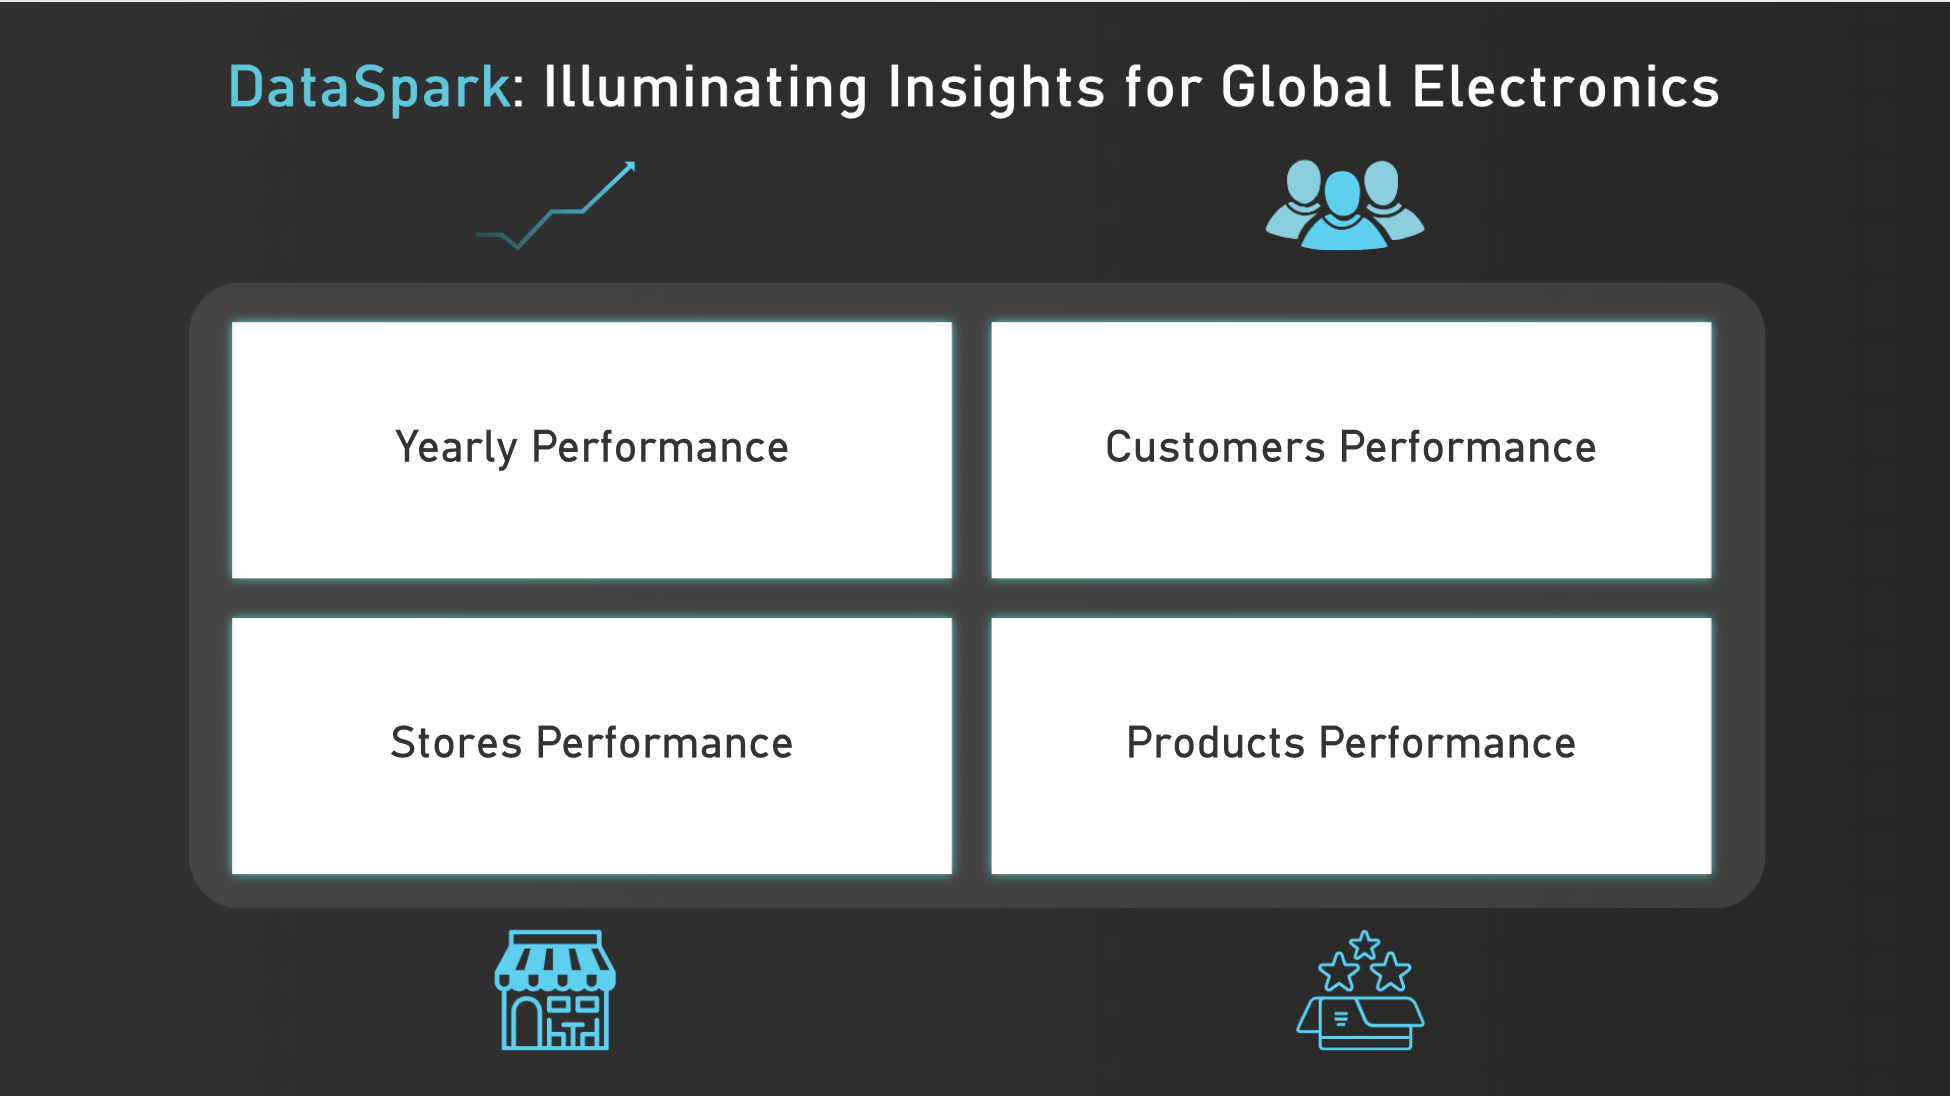

This screenshot's page, from the dashboard's own definition file:
{"tool":"powerbi","page":{"name":"DataSpark: Illuminating Insights for Global Electronics","canvas":[1280,720],"ordinal":0},"visuals":[{"type":"pageNavigator","box":[145.8,202.5,986.3,378.7],"z":0},{"type":"textbox","box":[129.6,31.7,1020.8,84.6],"z":1000}]}

Visuals, with their boxes in screenshot pixels (x1, y1, x2, y2), scaled from the page's 1280x720 canvas onto the 1950x1096 screenshot:
pageNavigator: rect(222, 308, 1725, 885)
textbox: rect(197, 48, 1753, 177)
